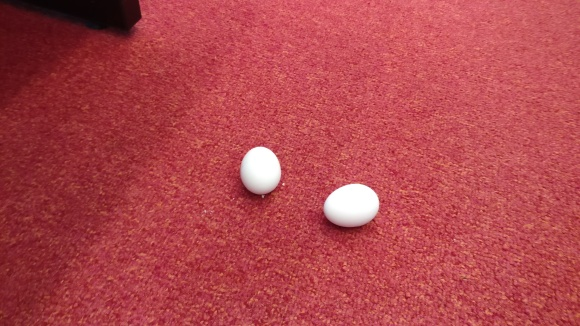egg: (321, 182, 382, 229), (239, 145, 282, 196)
